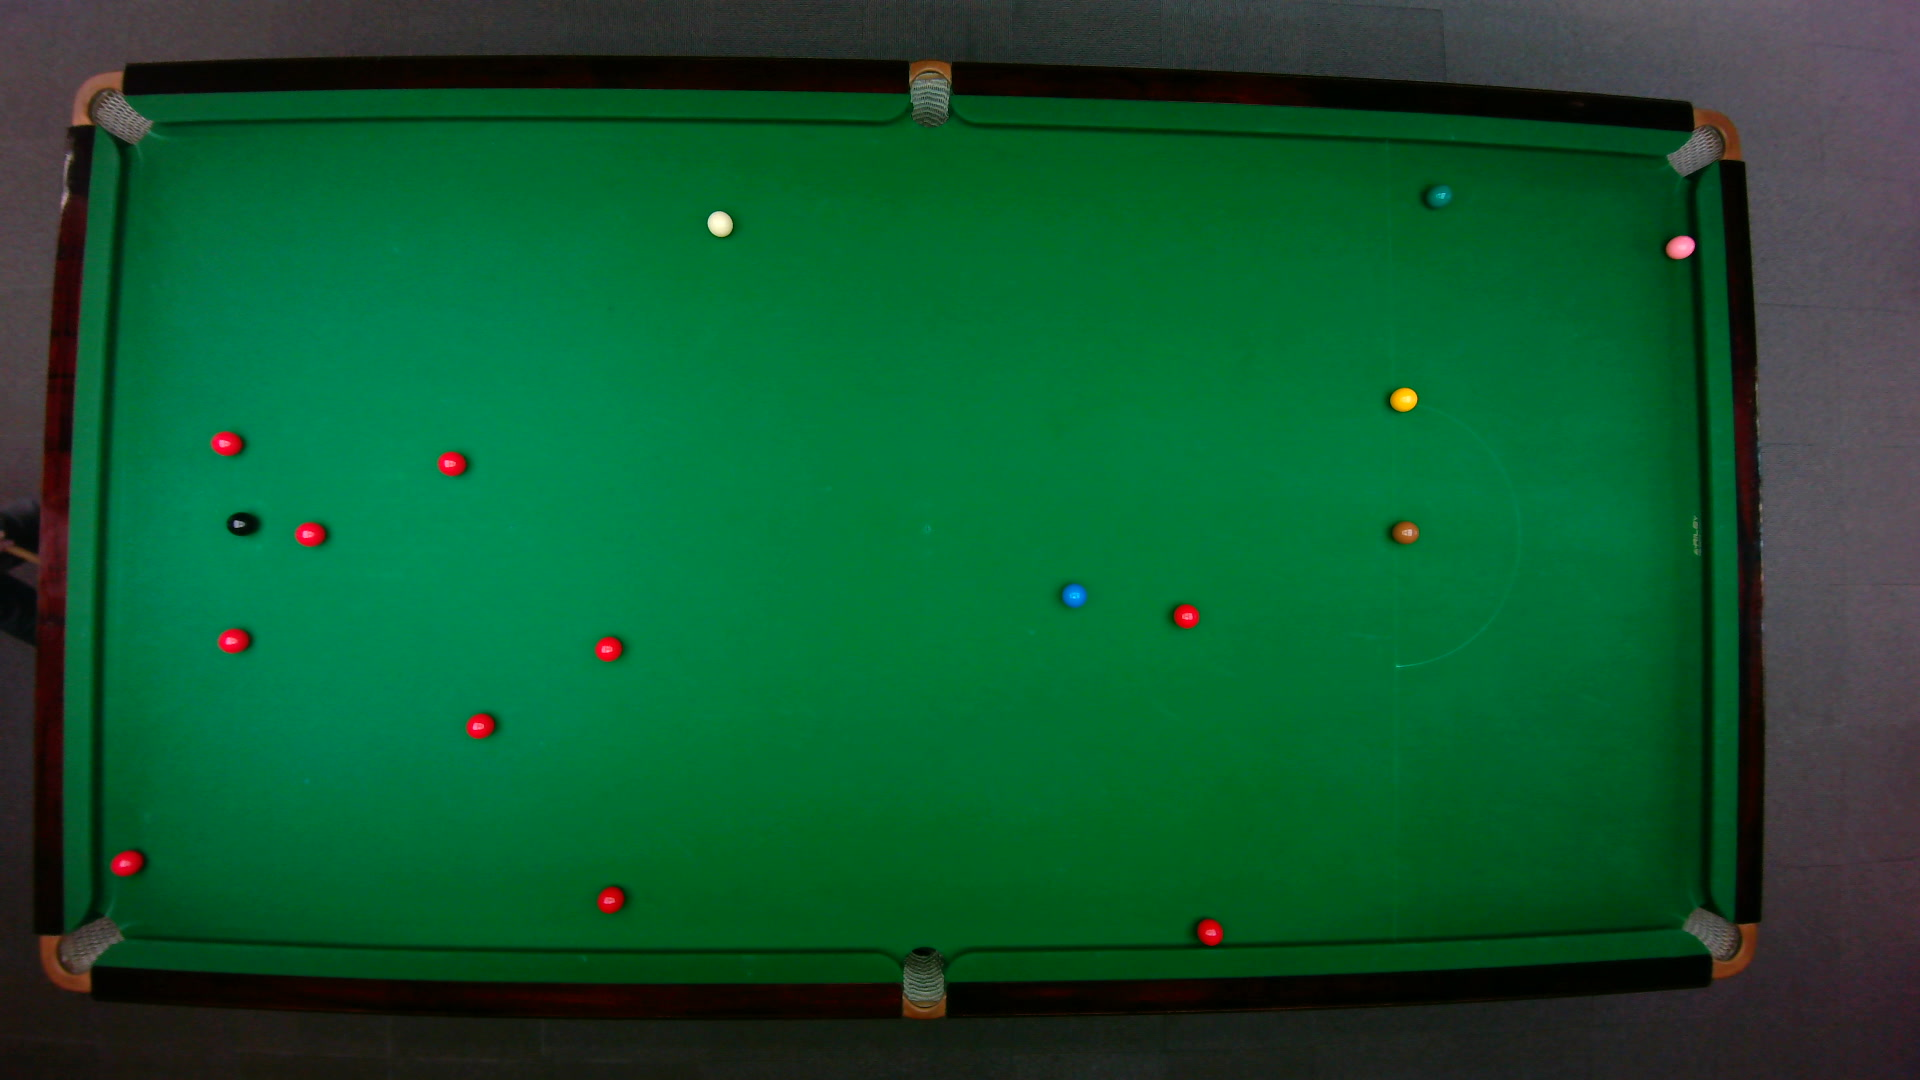bag: (37, 913, 125, 993), (69, 69, 152, 145), (1677, 905, 1756, 978), (1663, 107, 1741, 177), (901, 944, 944, 1021), (909, 57, 949, 128)
black: (224, 509, 257, 535)
blue: (1059, 582, 1087, 607)
brown: (1390, 520, 1419, 545)
green: (1422, 182, 1453, 208)
pink: (1663, 232, 1697, 260)
red: (108, 848, 144, 877), (208, 429, 244, 456), (215, 626, 251, 653), (595, 884, 625, 914), (293, 520, 326, 547), (592, 633, 622, 662), (1193, 916, 1224, 945), (435, 448, 467, 476), (464, 711, 495, 738), (1171, 603, 1201, 629)
white: (705, 208, 735, 237)
yellow: (1387, 385, 1419, 411)
zone: (1389, 400, 1520, 667)
